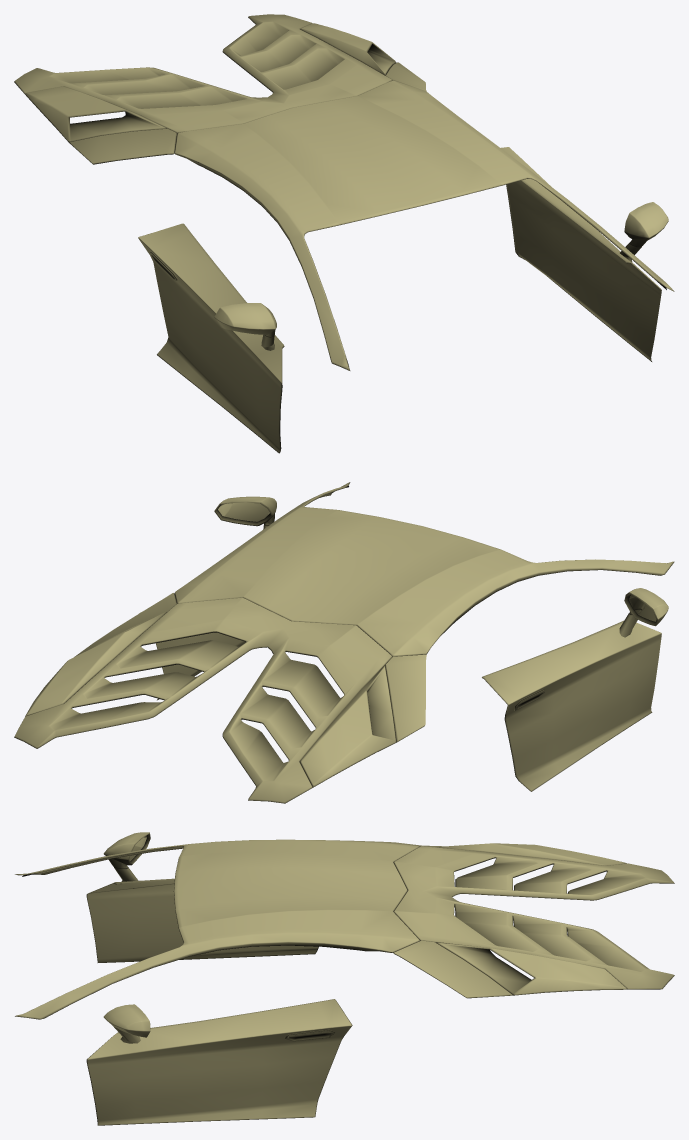
The model's file is Aventador_Chassis_Duco.fbx.
3 renders of one model, top to bottom at view 1: azimuth 30°, elevation 25°; view 2: azimuth 150°, elevation 25°; view 3: azimuth 270°, elevation 25°, orthographic. The views are drawn at different scales.
Parts seen in each view (by area): view 1: Aventador_Chassis_Duco; view 2: Aventador_Chassis_Duco; view 3: Aventador_Chassis_Duco.
Boxes of the visible parts, x1=… form: Aventador_Chassis_Duco: x1=14, y1=14, x2=674, y2=453; Aventador_Chassis_Duco: x1=14, y1=482, x2=674, y2=803; Aventador_Chassis_Duco: x1=15, y1=832, x2=674, y2=1125.
Size of the model in its own units: 226 by 88.76 by 326.
